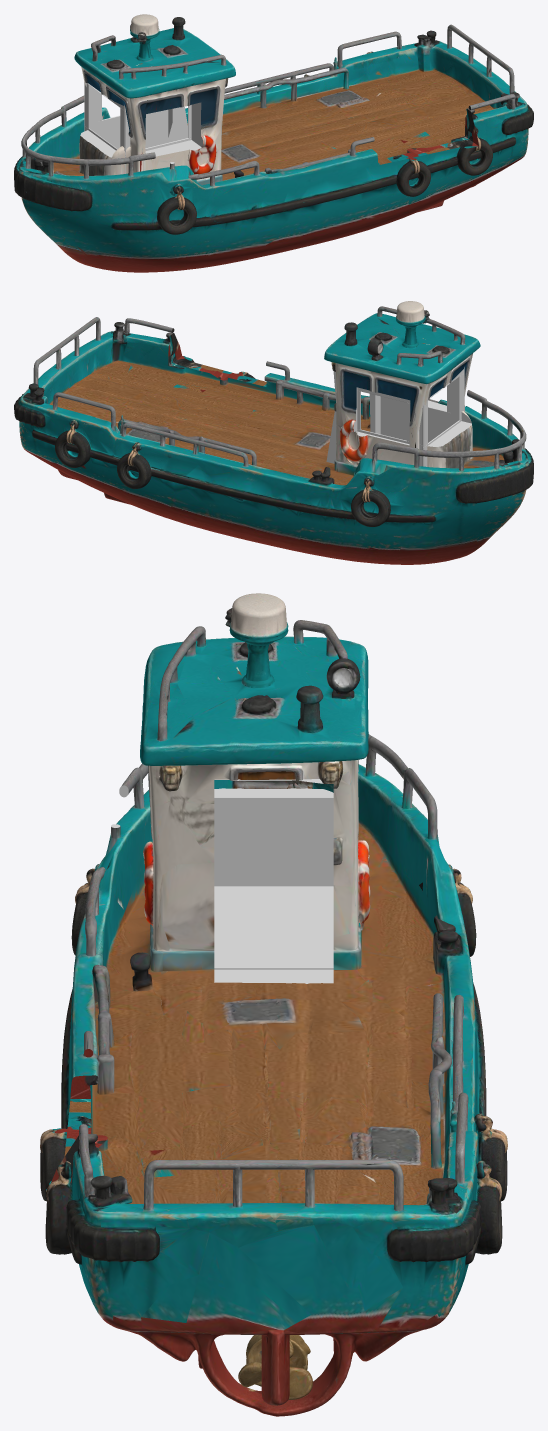
File: TurquoiseHarborTug.fbx
3 views of the same model, one above another, from view 1: azimuth 30°, elevation 25°; view 2: azimuth 150°, elevation 25°; view 3: azimuth 270°, elevation 25° (orthographic). The views are drawn at different scales.
Parts seen in each view (by area): view 1: Mesh_0; view 2: Mesh_0; view 3: Mesh_0.
Part boxes in pixels (x1,y1,x2,y2): Mesh_0: (14, 14, 533, 272); Mesh_0: (14, 301, 533, 564); Mesh_0: (40, 593, 507, 1416).
Size of the model in its own units: 190 by 94.33 by 80.98.
